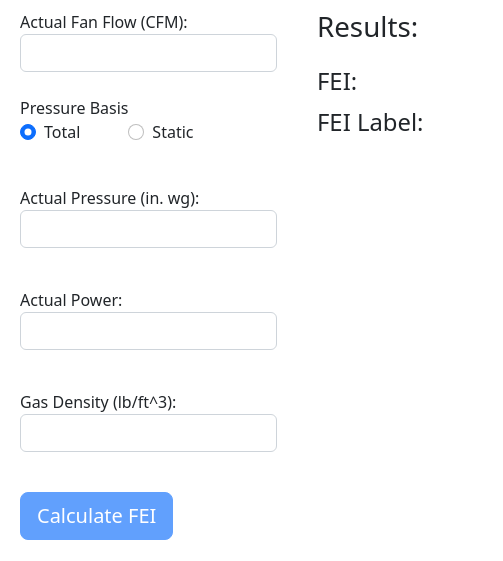
Test: Form App › should calculate the FEI and label correctly when the pressure basis is 'Static'
Type "10000" into the number field labelled "Actual Fan Flow (CFM):" at x=148, y=53, box [20,34,277,72]
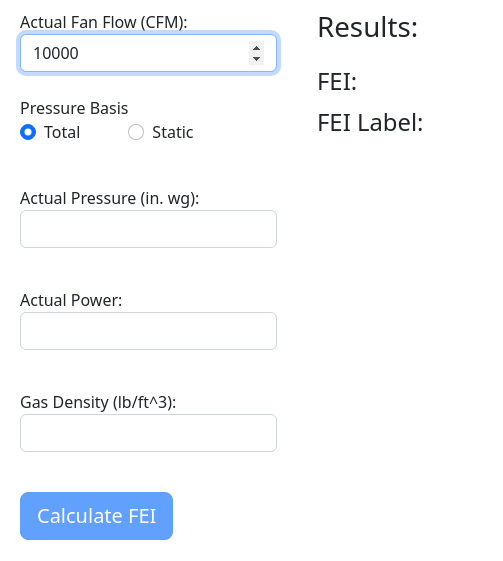
Click the text "Static" at x=173, y=132, box [152,120,193,144]
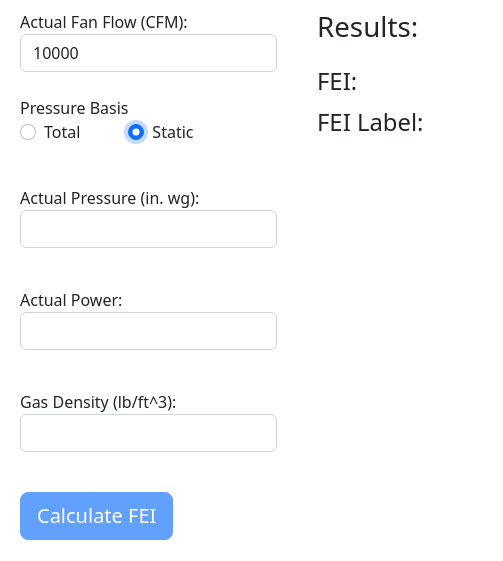
Type "3.0" into the number field labelled "Actual Pressure (in. wg):" at x=148, y=229, box [20,210,277,248]
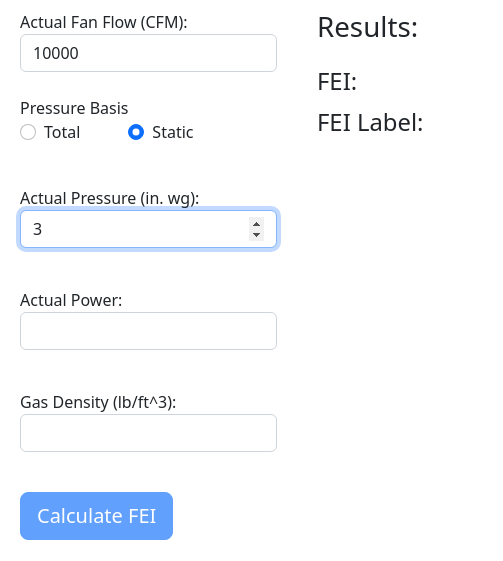
Type "6.48" into the number field labelled "Actual Power:" at x=148, y=331, box [20,312,277,350]
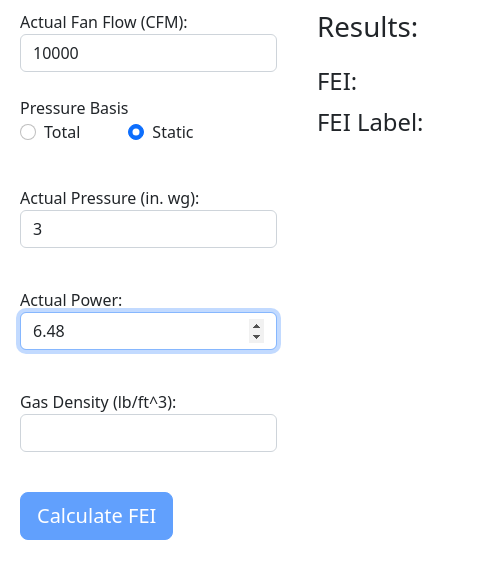
Type ".080713" into the number field labelled "Gas Density (lb/ft^3):" at x=148, y=433, box [20,414,277,452]
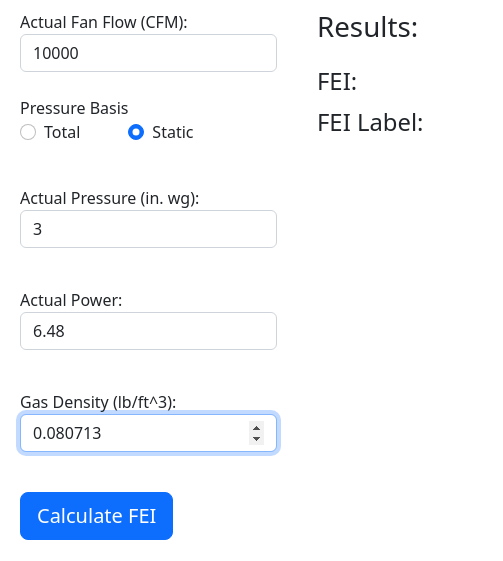
Click the button "Calculate FEI" at x=97, y=516, box [20,492,173,540]
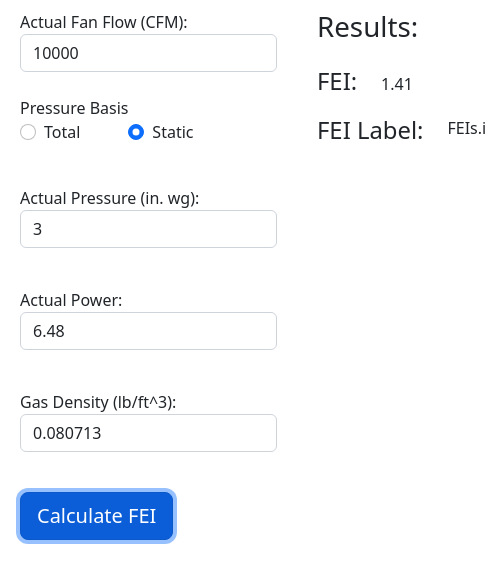
Check: the text "1.41" is shown, box [381,72,413,96]
Check: the text "FEIs.i" is shown, box [448,116,486,140]
